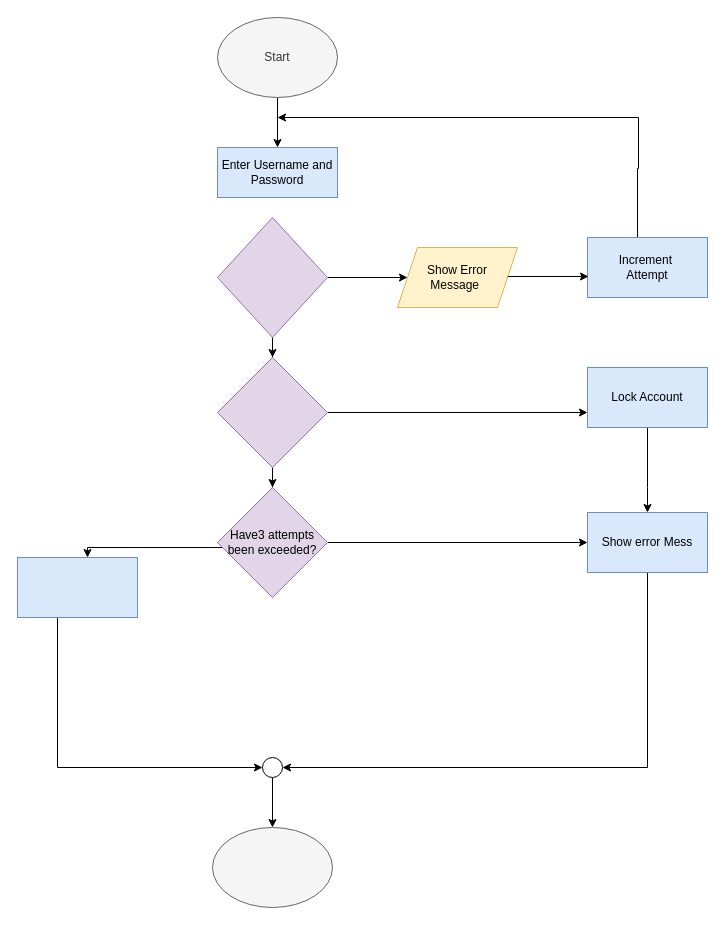
The diagram is 725 pixels wide and 925 high, and some of its shapes have lost their labels. The box of each missing label's shape, as (x1, y1, x2, y2) in pixels:
Is password valid?: (216, 356, 328, 468)
Is username valid?: (216, 216, 328, 338)
Reset Error Message: (16, 556, 138, 618)
Stop: (212, 826, 332, 908)
